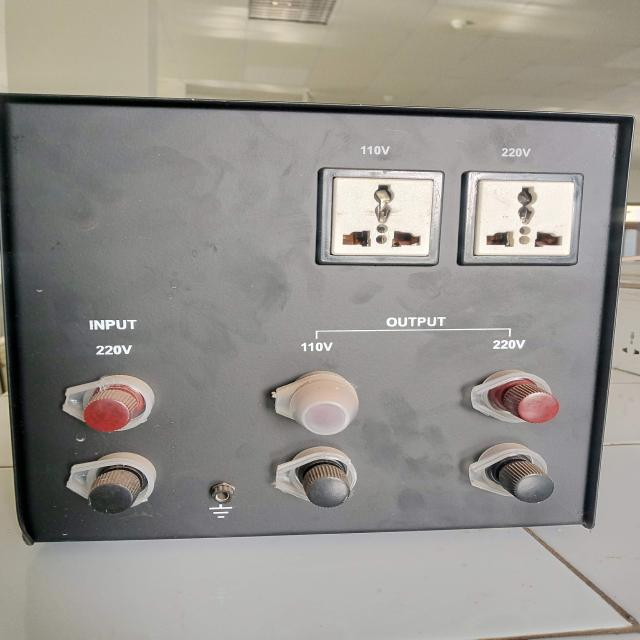AC POWER Stabilizer: (2, 95, 631, 545)
